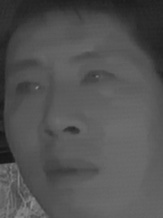eye: (77, 66, 117, 91), (12, 76, 47, 98)
mouth: (39, 155, 102, 189)
